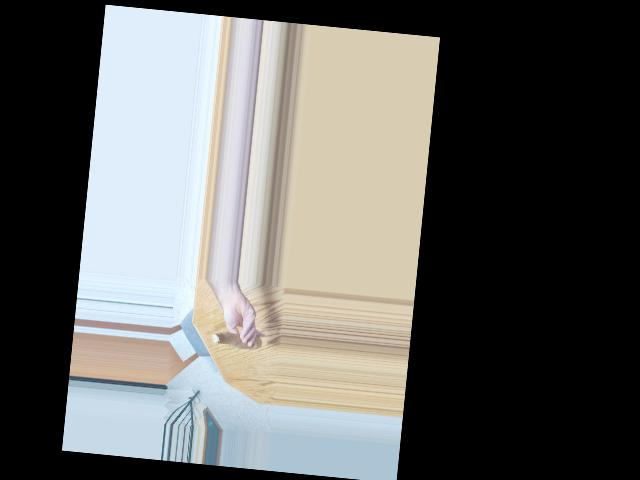sweet_potato: (215, 332, 258, 355)
